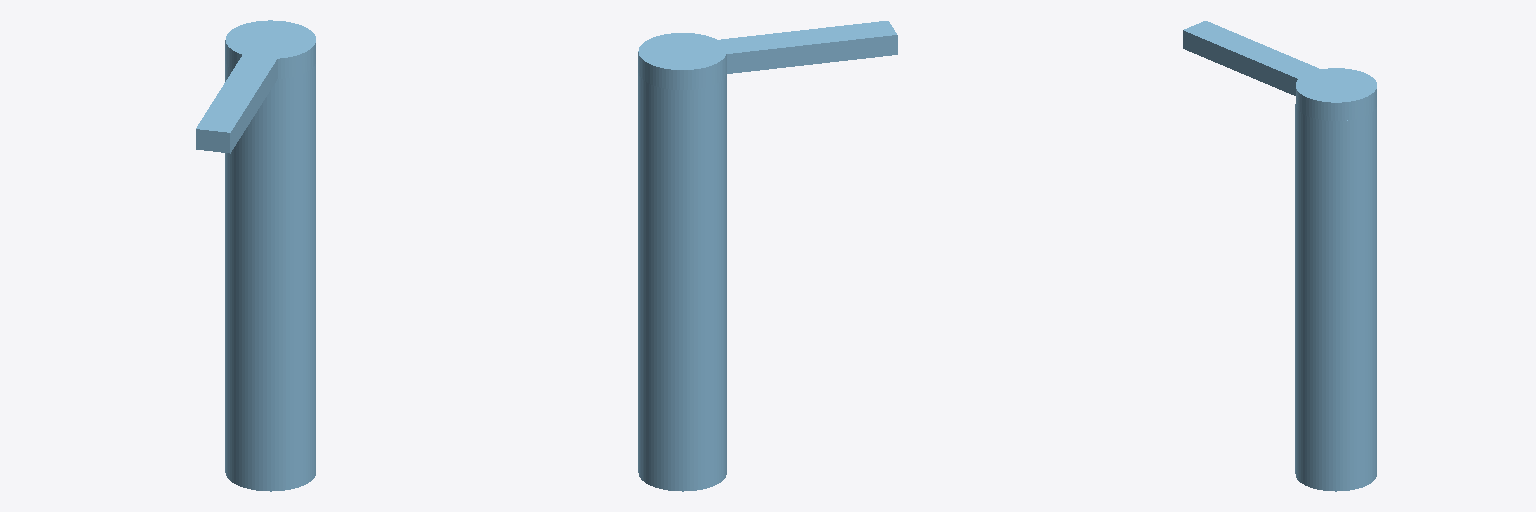
URDF robot description (dingus_robot):
<?xml version="1.0"?>
<robot name="dingus_robot">
<link name="arm">
<visual>
<origin xyz="1.7375145131068805376e-17 2.5731727734900986487e-17 0.5" rpy="1.9584515059070453039e-32 -1.7942814659981811069e-33 0.785398163397448279" />
<geometry>
<mesh filename="package://dingus_description/dingus/arm.stl"/>
</geometry>
<material name="arm_material">
<color rgba="0.61568627450980395466 0.81176470588235294379 0.92941176470588238168 1.0"/>
</material>
</visual>
<collision>
<origin xyz="1.7375145131068805376e-17 2.5731727734900986487e-17 0.5" rpy="1.9584515059070453039e-32 -1.7942814659981811069e-33 0.785398163397448279" />
<geometry>
<mesh filename="package://dingus_description/dingus/arm.stl"/>
</geometry>
</collision>
<inertial>
<origin xyz="-0.051995430176903459363 -0.051995430176903473241 0.51249999999999995559" rpy="0 0 0"/>
<mass value="1.0855049989236233987" />
<inertia ixx="0.0042535196501959715923" ixy="-0.0037856758511069172127"  ixz="-5.1432744097489893805e-36" iyy="0.0042535196501959715923" iyz="-1.4969238006915381895e-35" izz="0.0083939658630039978848" />
</inertial>
</link>

<link name="base">
<visual>
<origin xyz="0 -3.0616169978683835572e-18 -0.5" rpy="0 -0 0" />
<geometry>
<mesh filename="package://dingus_description/dingus/base.stl"/>
</geometry>
<material name="base_material">
<color rgba="0.61568627450980395466 0.81176470588235294379 0.92941176470588238168 1.0"/>
</material>
</visual>
<collision>
<origin xyz="0 -3.0616169978683835572e-18 -0.5" rpy="0 -0 0" />
<geometry>
<mesh filename="package://dingus_description/dingus/base.stl"/>
</geometry>
</collision>
<inertial>
<origin xyz="7.5101839249055280309e-19 3.8518598887744717061e-34 -0.25" rpy="0 0 0"/>
<mass value="30.826877913349854055" />
<inertia ixx="0.66149342189063231601" ixy="0"  ixz="0" iyy="0.66149342189063231601" iyz="0" izz="0.038533597391687331168" />
</inertial>
</link>

<joint name="shoulder_1" type="revolute">
<origin xyz="0 3.0616169978683835572e-18 0.5" rpy="0 -0 0" />
<parent link="arm" />
<child link="base" />
<axis xyz="0 0 1"/>
<limit effort="1" velocity="20" lower="-0.785398163397448279" upper="0.785398163397448279"/>
<joint_properties friction="0.0"/>
</joint>


</robot>

--- Render facts (derived) ---
3 views of the same robot in one strip: view 1: azimuth 30°, elevation 25°; view 2: azimuth 150°, elevation 25°; view 3: azimuth 270°, elevation 25° (orthographic).
Robot: dingus_robot — 2 links, 1 joints (1 revolute); root link arm; default pose: every joint at zero.
Links seen in each view (by area): view 1: base, arm; view 2: base, arm; view 3: base, arm.
Link boxes in pixels (x1,y1,x2,y2): base: (225,61,315,491); arm: (196,20,315,153); base: (638,73,726,491); arm: (638,21,897,89); base: (1295,104,1376,491); arm: (1183,21,1376,120).
Size in the robot's own frame: 0.2379 by 0.2379 by 0.525 metres.
2 mesh visuals loaded from 2 distinct referenced files (2 binary STL).
